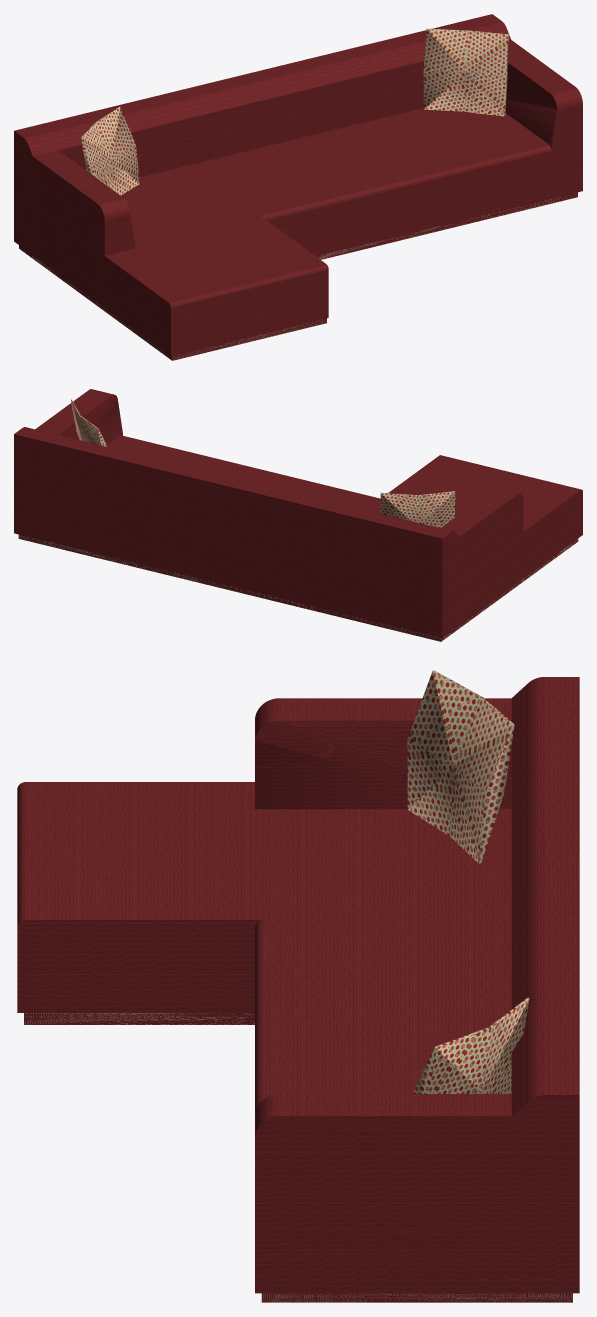
The model's file is large-couch.dae.
3 views of the same model, one above another, from view 1: azimuth 30°, elevation 25°; view 2: azimuth 150°, elevation 25°; view 3: azimuth 270°, elevation 25° (orthographic). The views are drawn at different scales.
Parts seen in each view (by area): view 1: Model, Group1, Group2; view 2: Model, Group2, Group1; view 3: Model, Group2, Group1.
Boxes of the visible parts, x1,y1,x2,y2 form: Model: (14, 14, 582, 360); Group1: (423, 28, 508, 116); Group2: (80, 106, 139, 195); Model: (14, 389, 582, 641); Group2: (380, 491, 455, 528); Group1: (71, 399, 107, 446); Model: (17, 677, 579, 1302); Group2: (407, 670, 514, 863); Group1: (413, 997, 529, 1093).
Bounding box in the file's own units: 298 × 170 × 79.92.
Materials: 5 (3 with a texture image).
